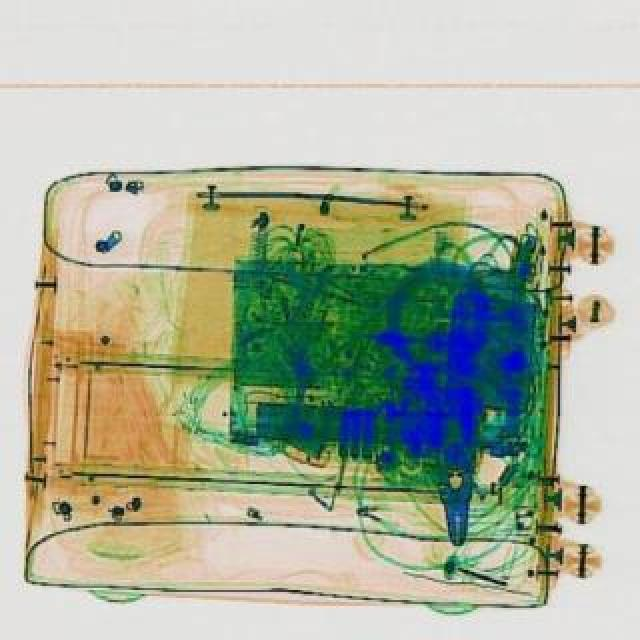wrench: (434, 388, 478, 544)
